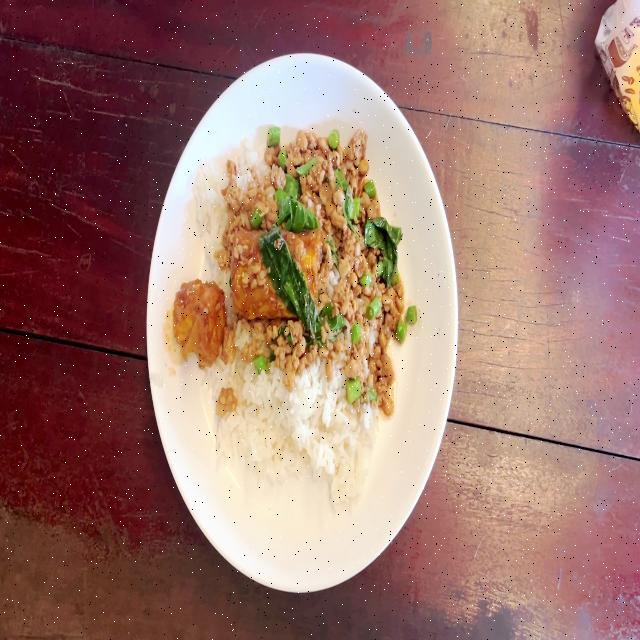fried_tofo: (232, 224, 317, 308), (163, 277, 224, 364)
minced_pork: (217, 126, 391, 228), (318, 222, 403, 397)
rice: (204, 380, 383, 488)
stir_fried_basil: (171, 125, 407, 509)
